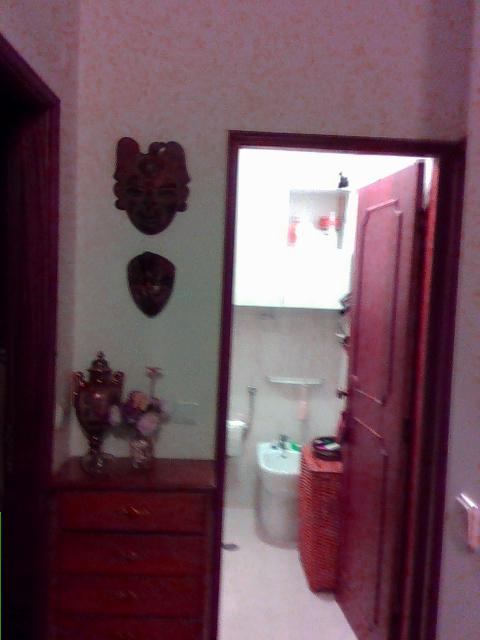open_door: (209, 129, 463, 638)
